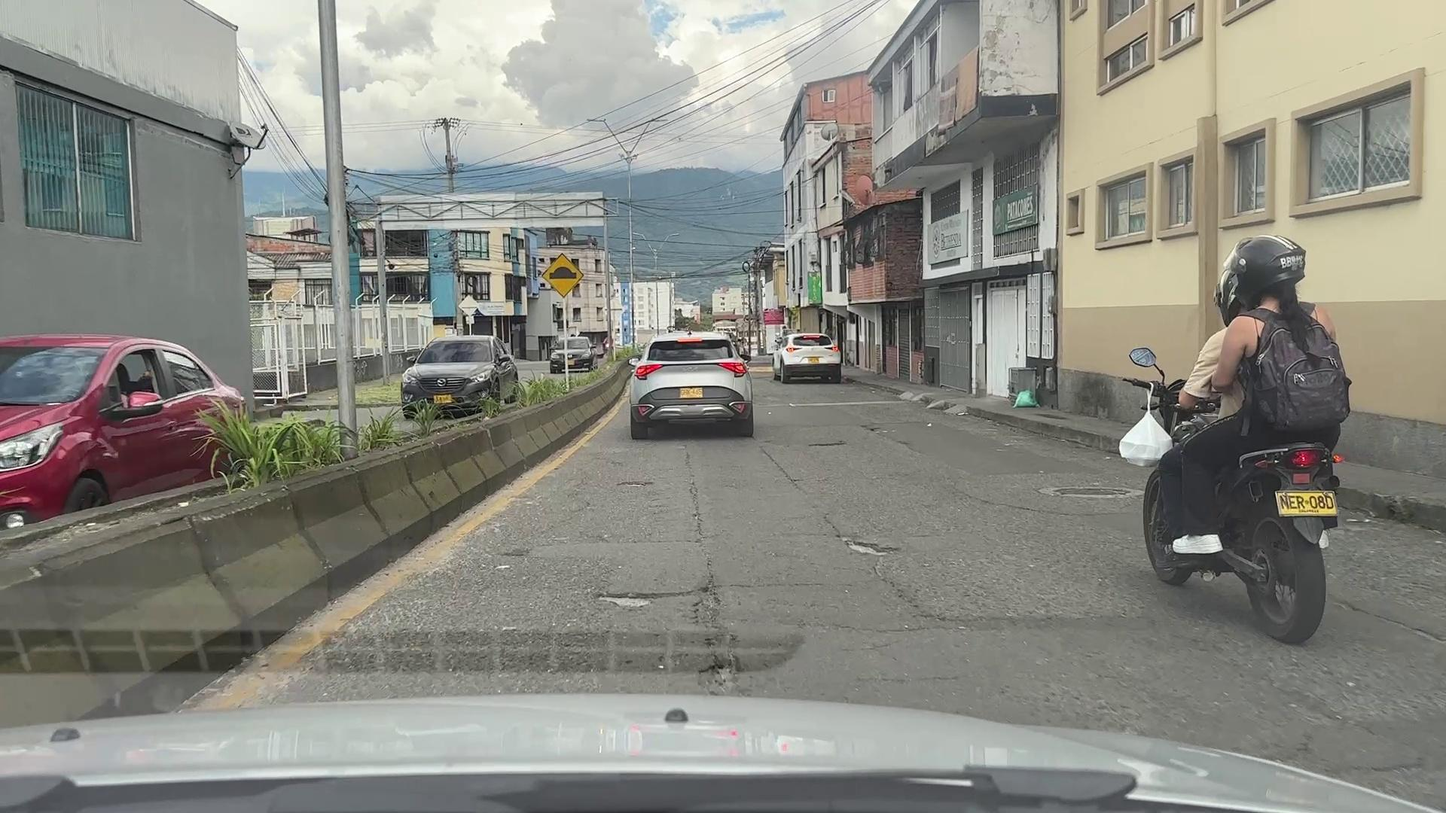bache: (845, 541, 899, 556), (600, 597, 650, 607), (808, 442, 848, 447), (620, 481, 651, 486)
grieta: (691, 577, 742, 696), (684, 452, 711, 568)
registro: (1054, 488, 1130, 496)
